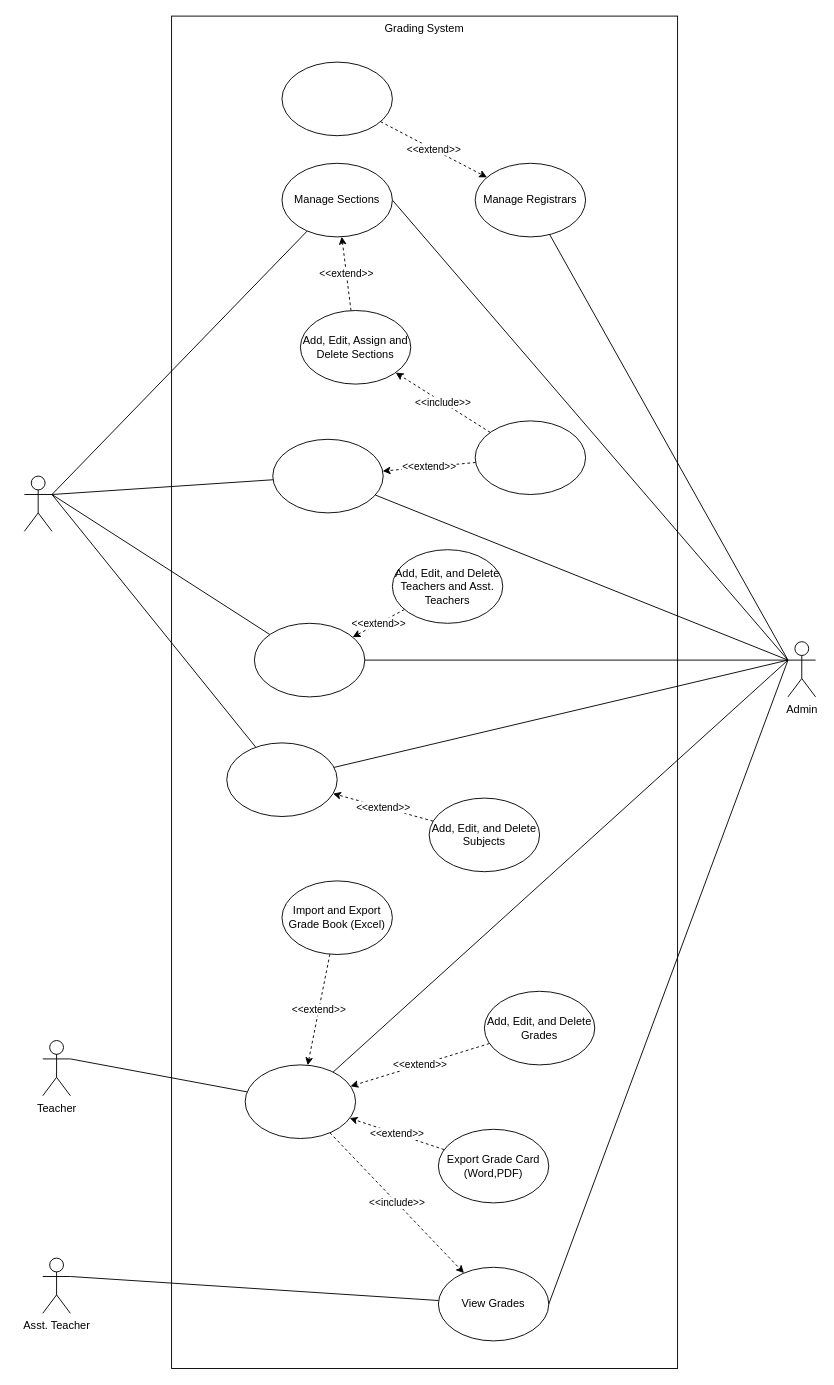
This 834x1385 diagram has some shape labels left out. Each missing label, with the centre of its shape:
"Add, Edit, and Delete Registrars" belongs at point 336,98.
"Add, Edit, and Delete Students" belongs at point 530,457.
"Manage Grades" belongs at point 300,1101.
"Manage Students" belongs at point 327,475.
"Manage Subjects" belongs at point 281,779.
"Manage Teachers and Asst. Teachers" belongs at point 309,659.
"Registrar" belongs at point 37,503.
